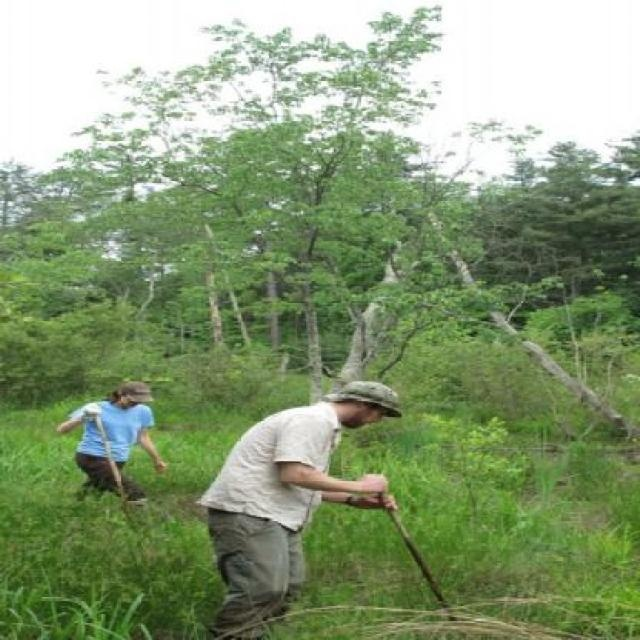obstacle: (219, 372, 416, 623), (57, 379, 168, 516)
